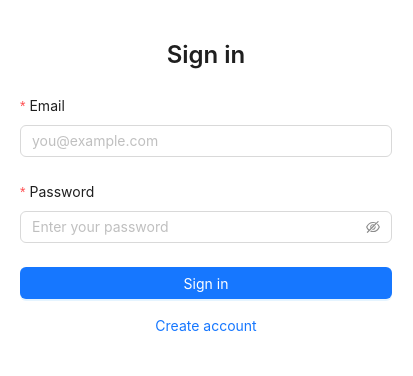
it: LoginPage › shows invalidCredentials (not backend detail) on 401
Step 1. Type "alice@example.com" into the field labelled "Email" → (206, 141), box [20, 125, 392, 157]
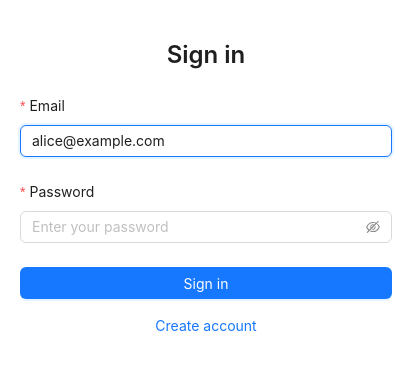
Step 2. Type "wrongpass" into the password field labelled "Password" → (197, 227), box [32, 216, 362, 238]
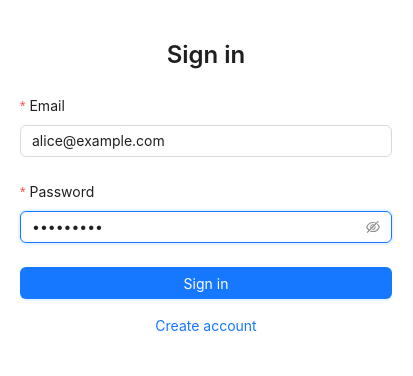
Step 3. Click the button "Sign in" → (206, 283), box [20, 267, 392, 299]
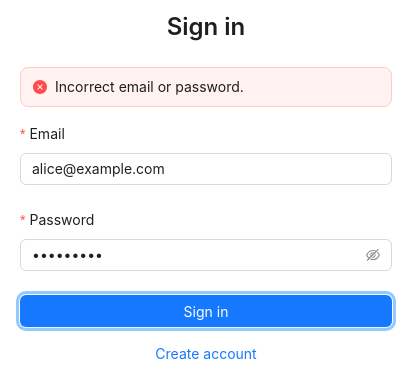
Now the text "Incorrect email or password." is shown, box [55, 78, 244, 95]
